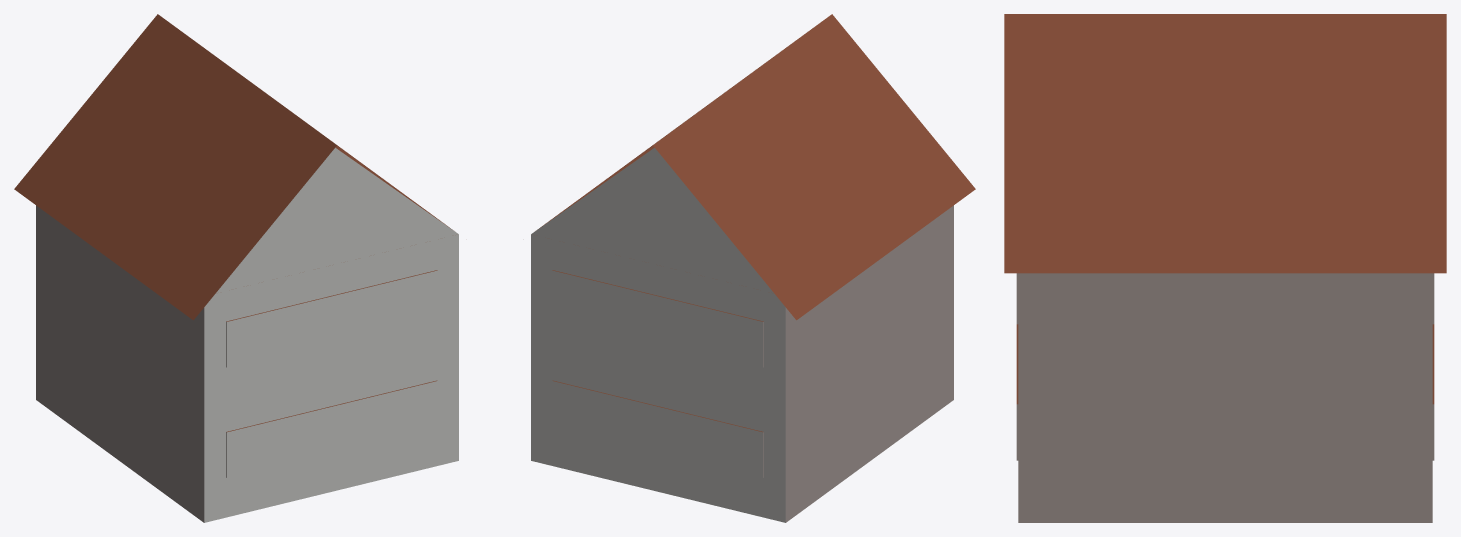
The model's file is cottage-white.far-facades-v3.lod2.glb.
The picture shows the model from 3 angles, left to right: view 1: azimuth 30°, elevation 25°; view 2: azimuth 150°, elevation 25°; view 3: azimuth 270°, elevation 25°; orthographic projection. The views are drawn at different scales.
Visible parts, largest first — view 1: cottage-white; view 2: cottage-white; view 3: cottage-white.
Boxes of the visible parts, box(x1,y1,x2,y2) form: cottage-white: box(14, 14, 458, 522); cottage-white: box(531, 14, 975, 522); cottage-white: box(1004, 14, 1446, 522).
Size of the model in its own units: 7.9 by 9.21 by 8.54.
